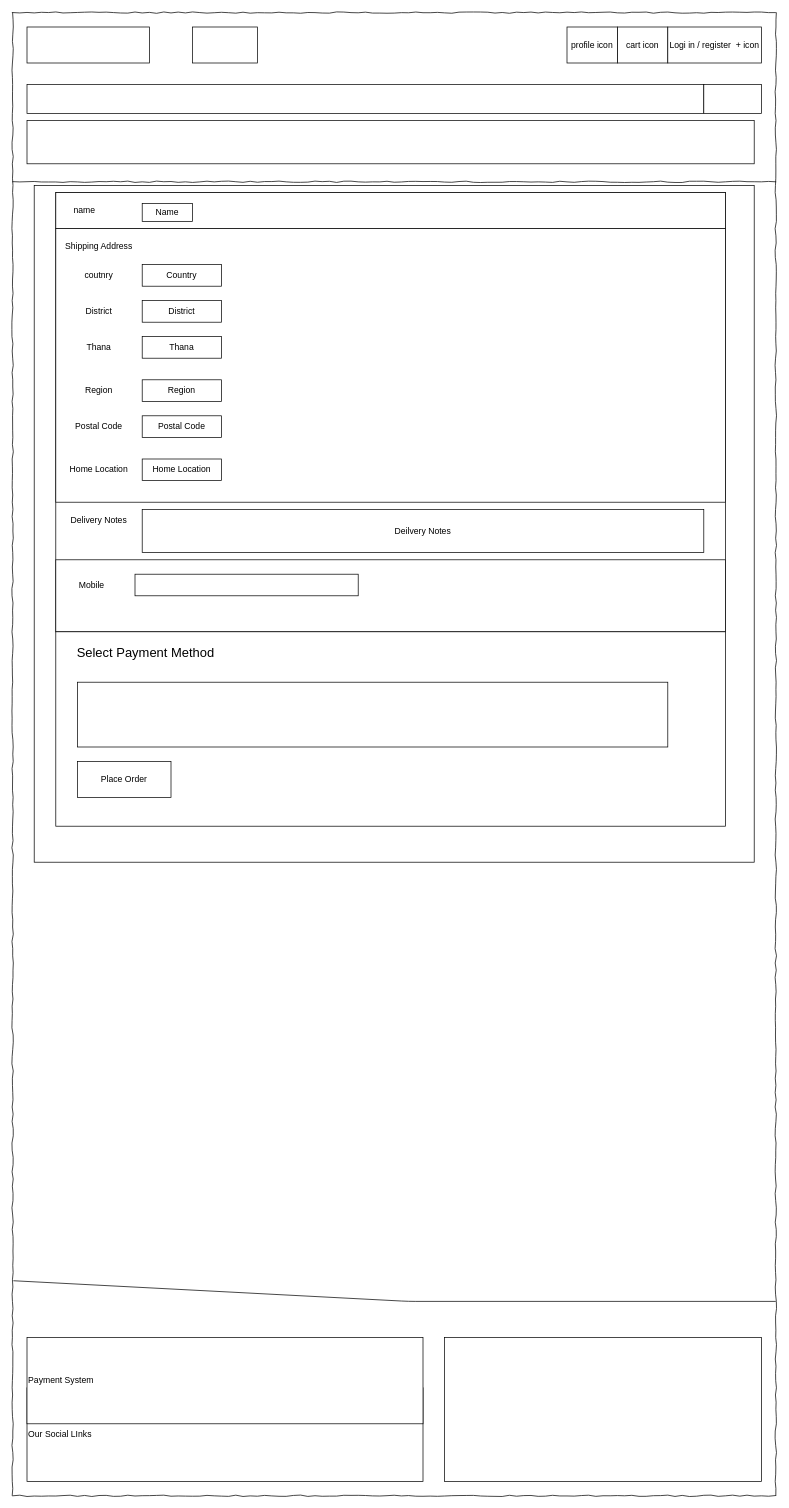
Some shapes in this 789 by 1508 pixel diagram are drawn without their labels. The shapes that lost their labels are listed below. From the top down, each one's centre as x and y in pixels, then its label:
At point (87, 44): "Logo".
At point (224, 44): "Videos".
At point (365, 98): "Search for Products".
At point (732, 98): "search icon".
At point (390, 142): "Categories".
At point (246, 584): "Mobile Number".
At point (602, 1409): "Contact Address".
